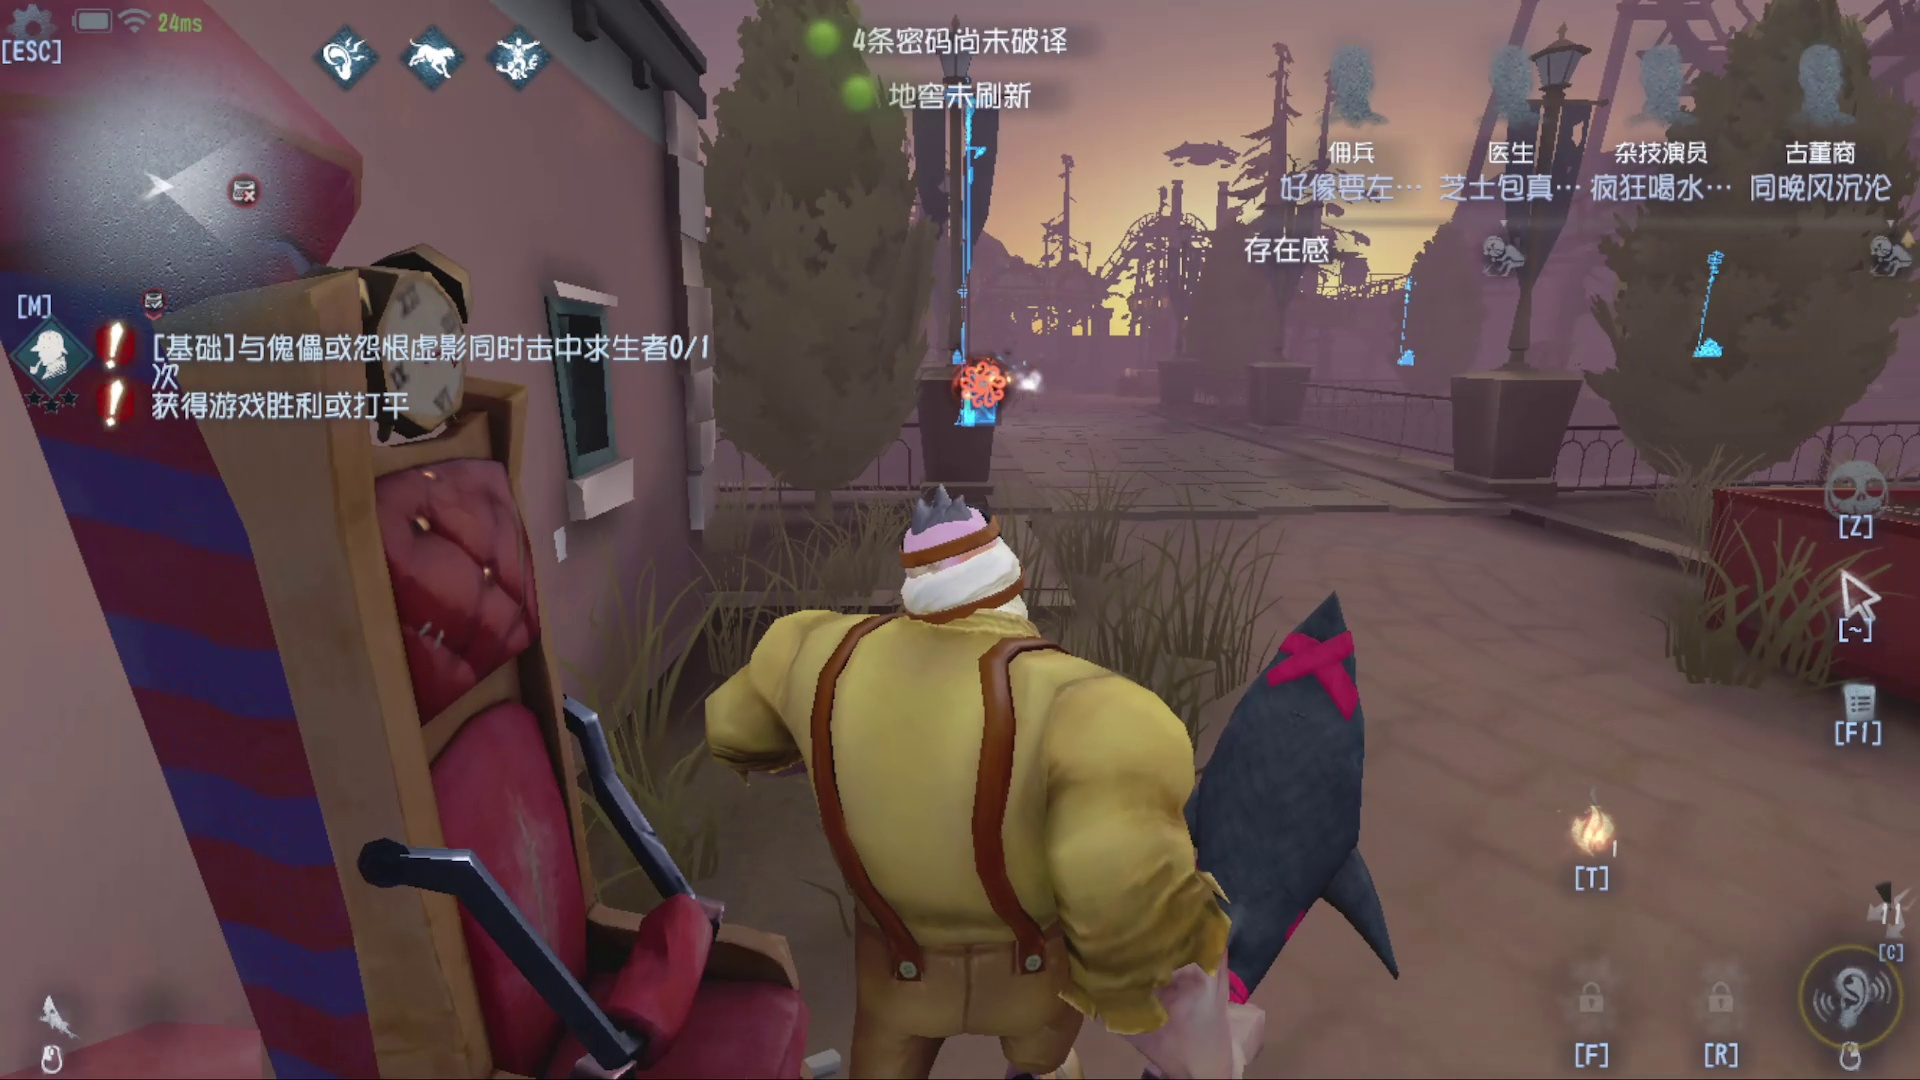密码机: (952, 94, 1002, 434), (1687, 251, 1750, 371), (1385, 265, 1427, 388)
狂欢之椅: (3, 1, 832, 1073)
